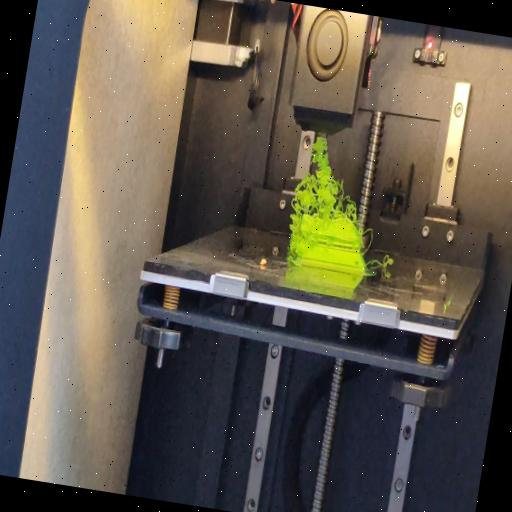spaghetti: (289, 133, 369, 228), (282, 214, 302, 266), (358, 224, 374, 262), (366, 254, 396, 274)
